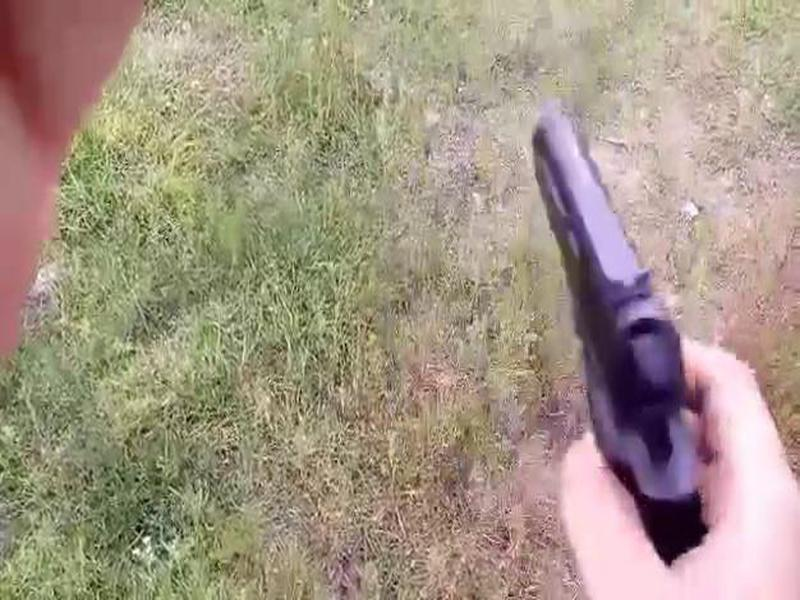Pistola: (502, 98, 751, 573)
